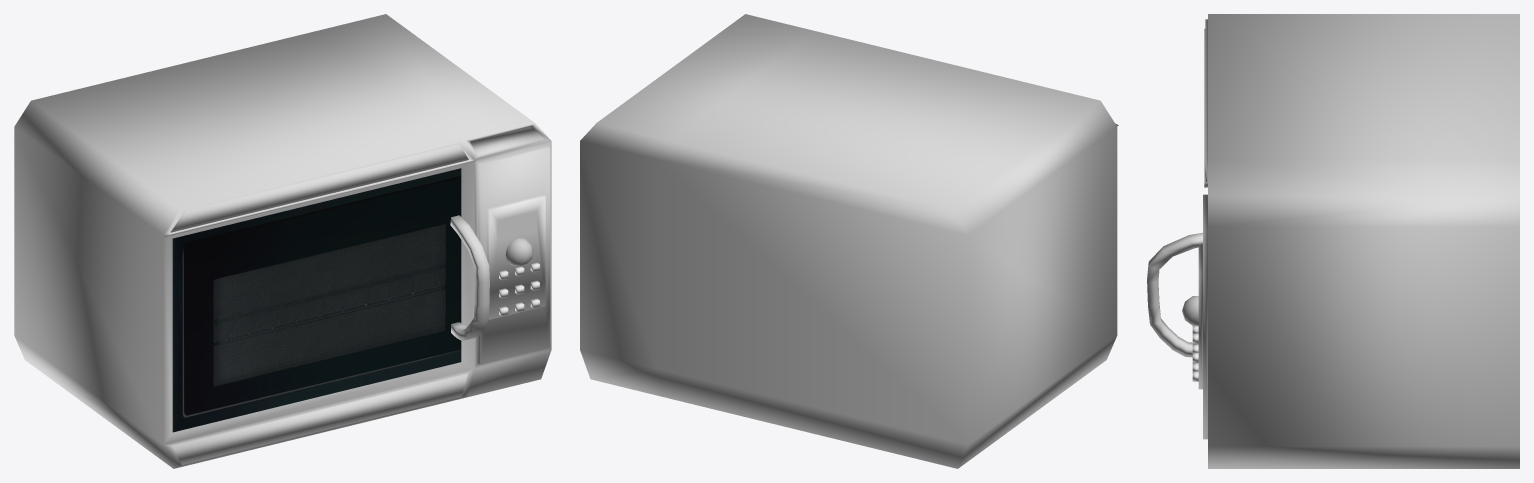
The model's file is microgal.fbx.
3 views of the same model, side by side, from view 1: azimuth 30°, elevation 25°; view 2: azimuth 150°, elevation 25°; view 3: azimuth 270°, elevation 25° (orthographic). The views are drawn at different scales.
Parts seen in each view (by area): view 1: Cube, Icosphere; view 2: Cube; view 3: Cube, Icosphere.
Part boxes in pixels (x1,y1,x2,y2): Cube: (14,14,551,468); Icosphere: (505,238,533,266); Cube: (580,14,1118,468); Cube: (1147,14,1519,468); Icosphere: (1182,296,1198,325).
Size of the model in its own units: 301 by 191 by 239.
